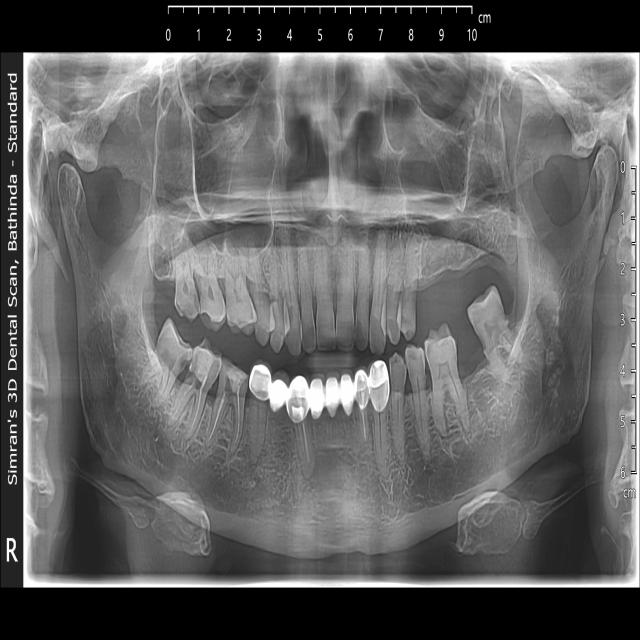Caries: (157, 320, 193, 378), (380, 289, 401, 344), (198, 289, 226, 330), (397, 285, 416, 339)
Crown: (249, 360, 390, 423)
Missing teeth: (418, 249, 486, 319), (458, 324, 490, 391), (314, 415, 359, 458)
Periapical lesion: (246, 432, 265, 474), (431, 414, 450, 448)
Root Canal Treatment: (167, 342, 223, 438), (205, 360, 249, 459), (286, 375, 319, 480), (355, 370, 371, 447)
